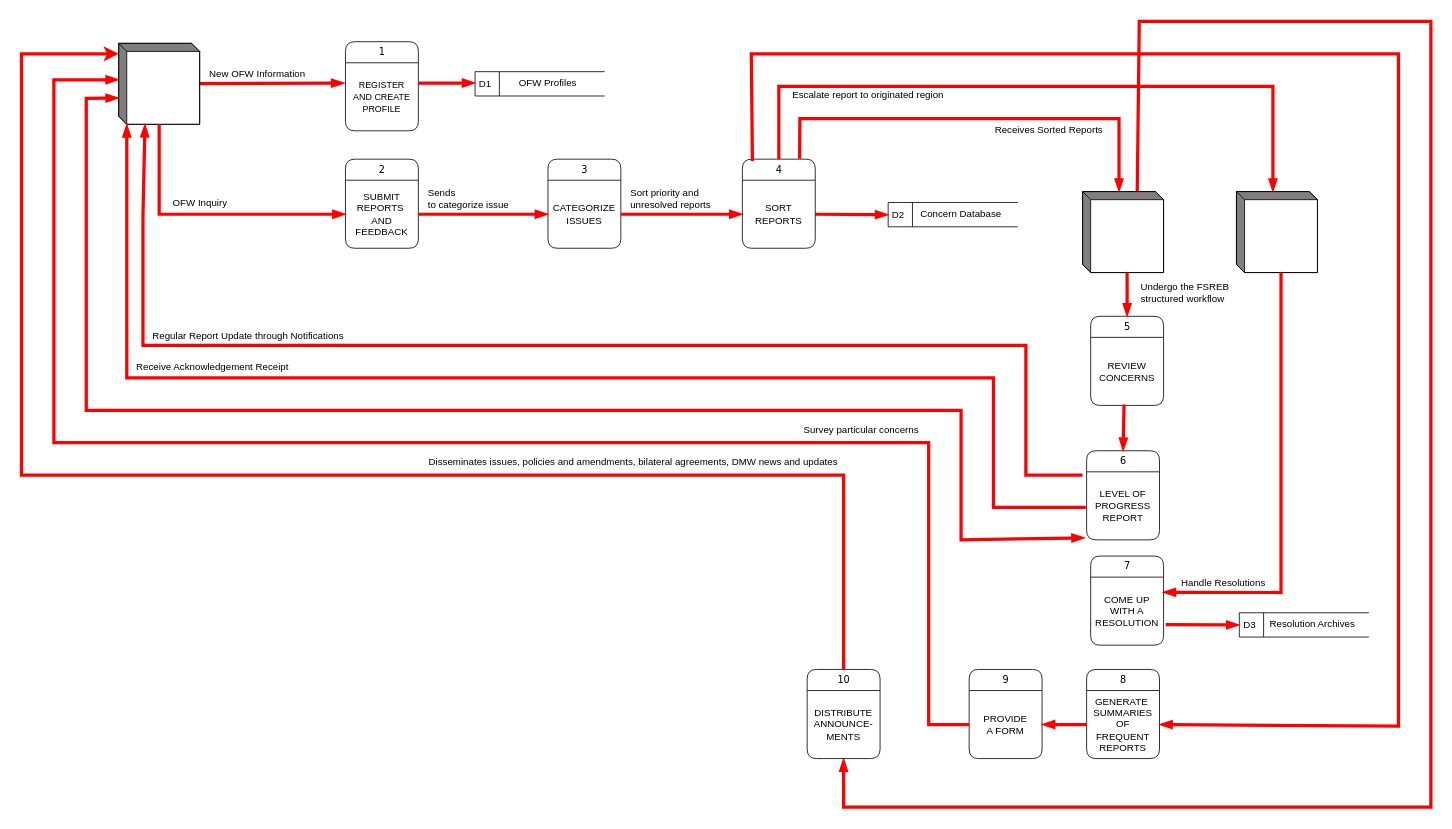
The diagram is 1452 pixels wide and 829 high, and some of its shapes have lost their labels. The centre of each missing label's shape, as x and y in pixels:
Department of Migrant Workers (DMW): [1123,232]
DIVISIONS Asia Pacific, Europe/ America Middle East: [1276,232]
Overseas Filipino Workers (OFW): [159,83]
